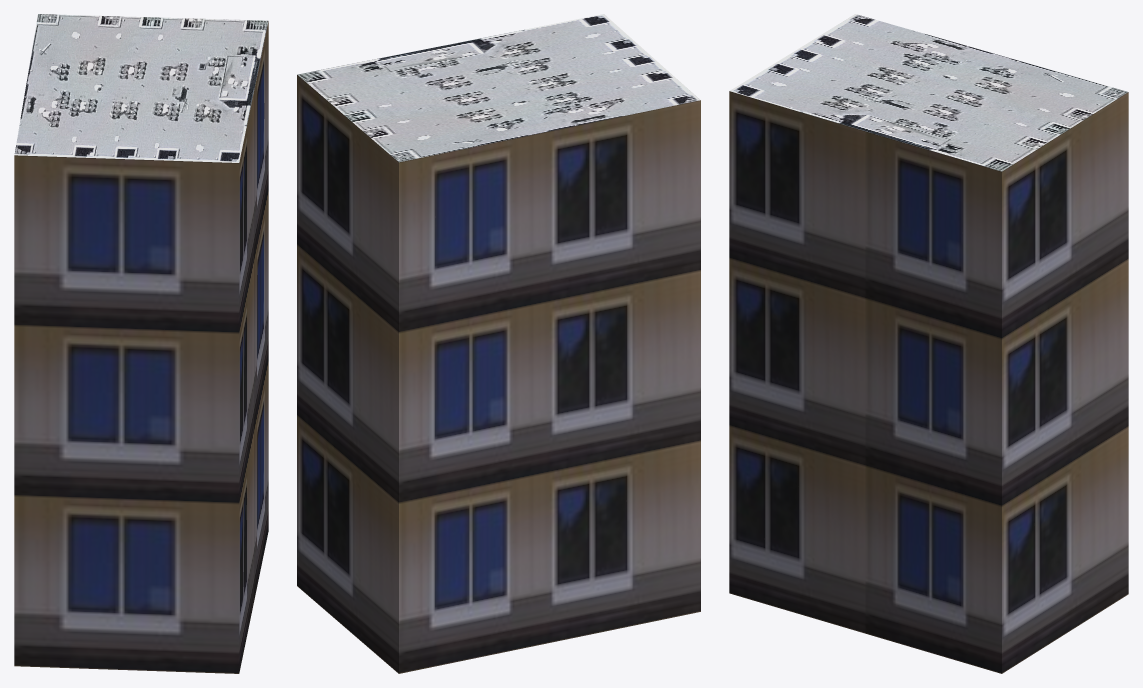
Rendered from ResTex__3623.fbx.
The picture shows the model from 3 angles, left to right: view 1: azimuth 30°, elevation 25°; view 2: azimuth 150°, elevation 25°; view 3: azimuth 270°, elevation 25°; orthographic projection.
Parts seen in each view (by area): view 1: CityEngineMaterial_5_m, CityEngineMaterial_4_m; view 2: CityEngineMaterial_5_m, CityEngineMaterial_4_m; view 3: CityEngineMaterial_5_m, CityEngineMaterial_4_m.
Boxes of the visible parts, <box> form: CityEngineMaterial_5_m: <box>14,21,268,673</box>; CityEngineMaterial_4_m: <box>14,14,268,162</box>; CityEngineMaterial_5_m: <box>297,75,700,673</box>; CityEngineMaterial_4_m: <box>297,14,700,162</box>; CityEngineMaterial_5_m: <box>729,91,1128,673</box>; CityEngineMaterial_4_m: <box>730,14,1127,171</box>.
Size of the model in its own units: 6.06 by 9 by 6.48.
Materials: 2 (2 with a texture image).
